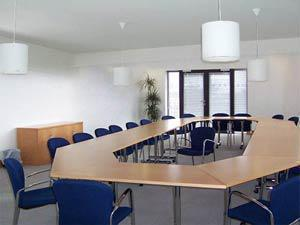Puerta: (182, 73, 232, 114)
